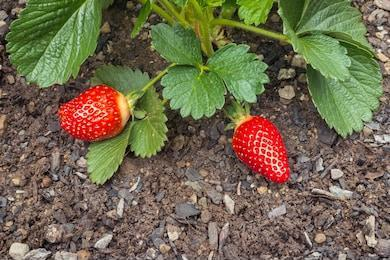Fresa: (225, 109, 295, 189), (55, 83, 133, 145)
